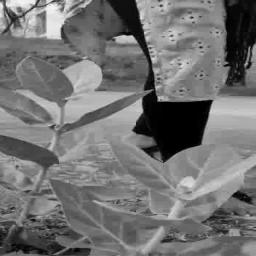Calotropis: (16, 55, 137, 256), (148, 150, 256, 256)
